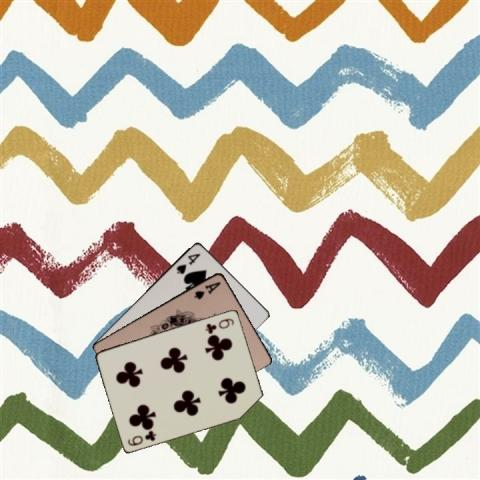4s: (173, 250, 202, 275)
6c: (203, 315, 235, 335), (125, 427, 157, 447)
As: (191, 278, 222, 300)
